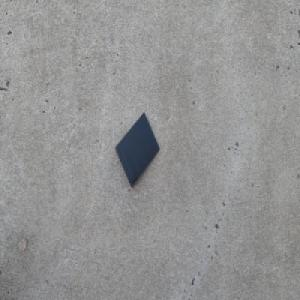PlasticPart: (115, 111, 160, 188)
